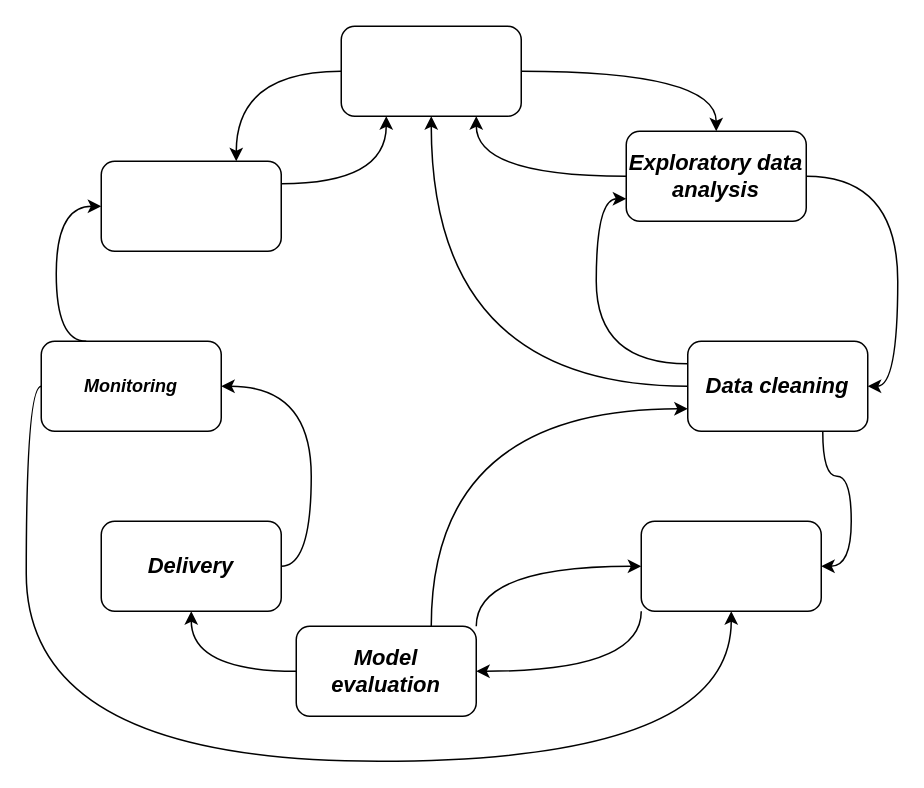
This 924x788 diagram has some shape labels left out. Each missing label, with the centre of its shape:
Business understanding: pixel 190 205
Data collection: pixel 430 70
Model creation: pixel 730 565
